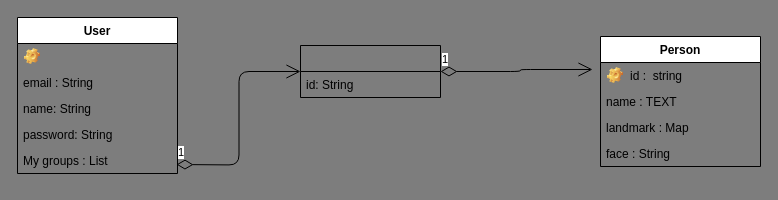
Image size: 778x200. Some labels were removed from this diagram. Each missing label, with the box of its shape:
Lists: (300, 44, 440, 98)
uid: String: (17, 43, 177, 69)
